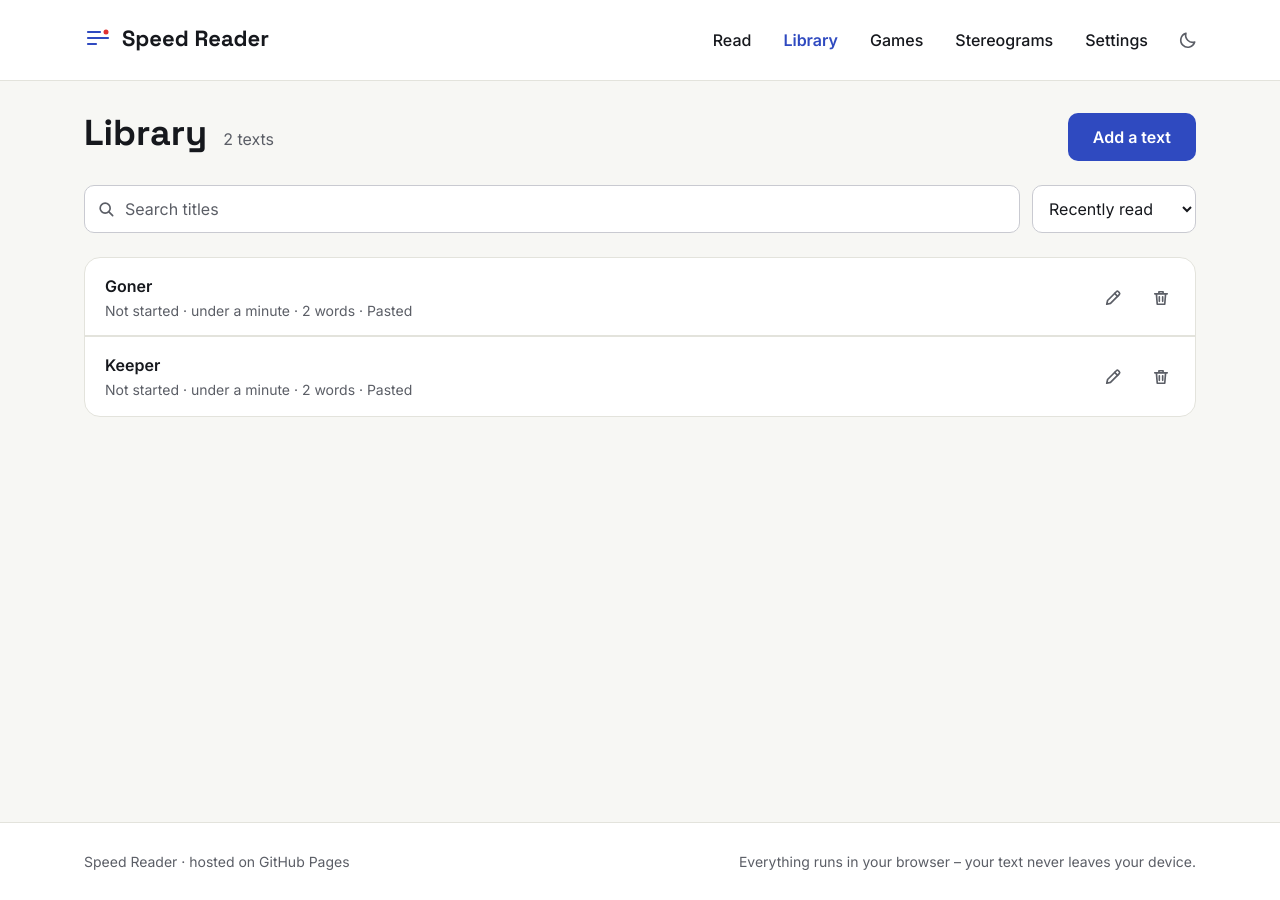
Scenario: library › removes a text, and lets you take it back
Click the button named "Remove “Keeper”".
click(1161, 376)  # box [1139, 354, 1183, 398]
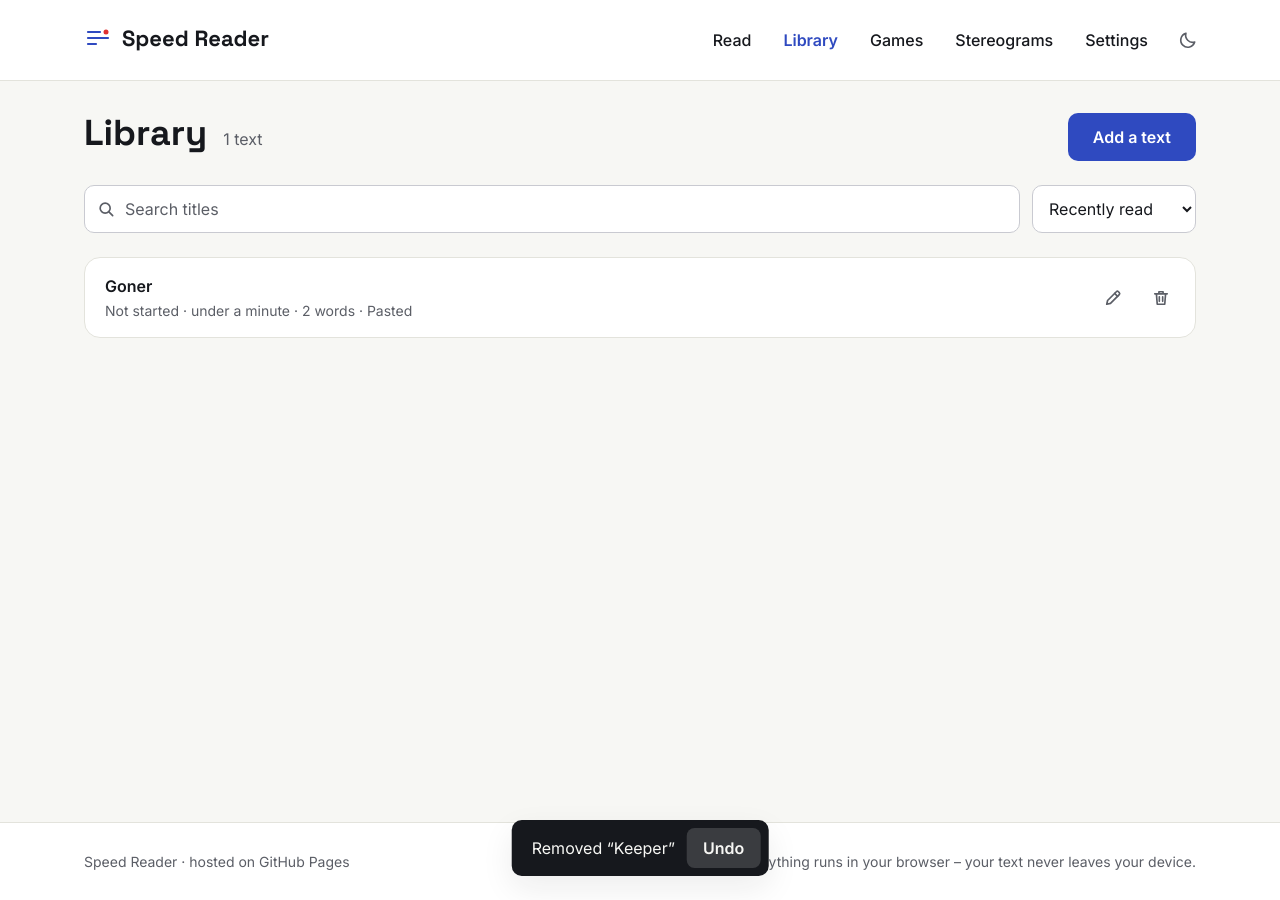
Result: the message shows "Removed “Keeper”" at [512, 820, 768, 876]
Click the button "Undo".
click(724, 848)  # box [687, 828, 760, 868]
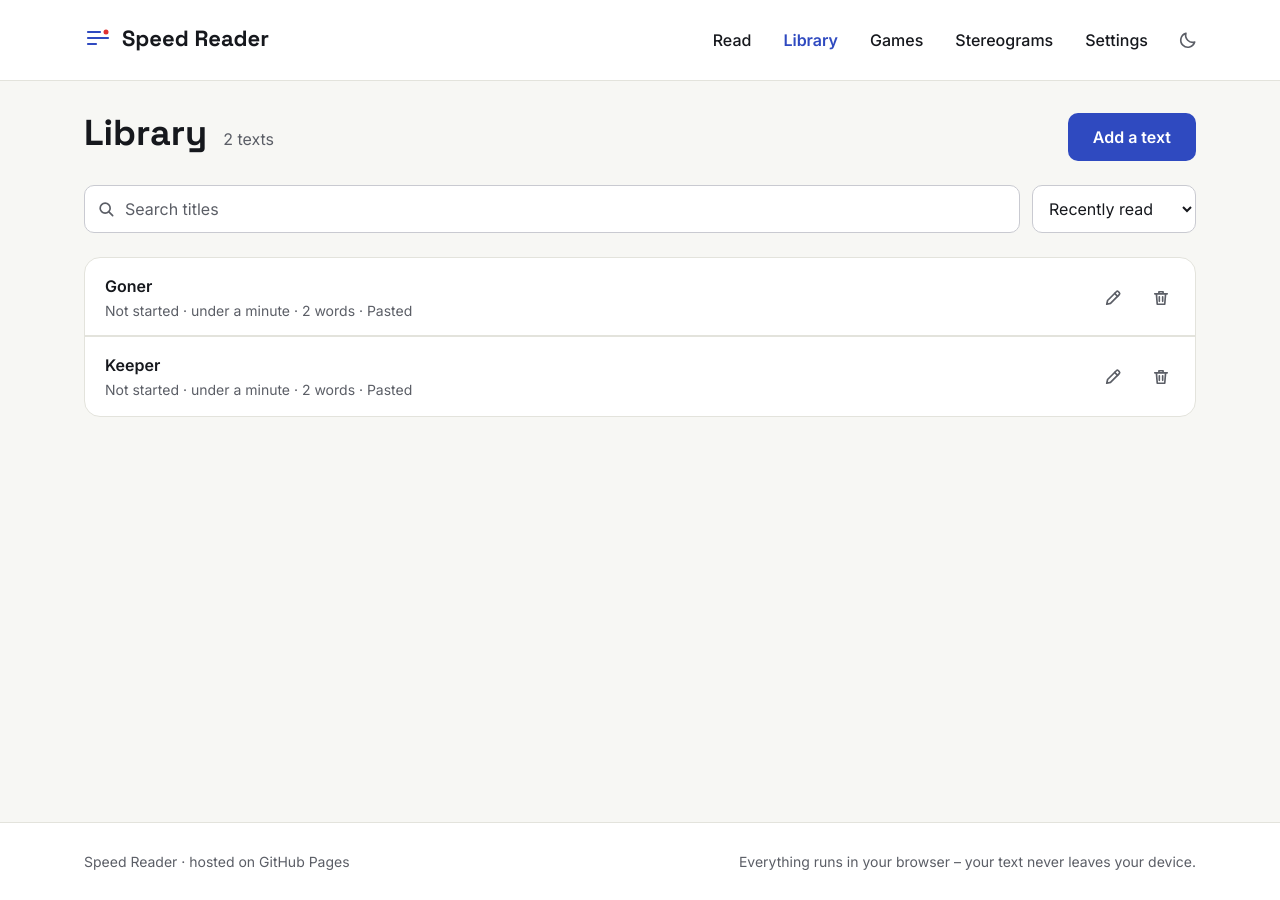
Result: the link "Keeper Not started · under a minute · 2 words · Pasted" is shown at [105, 355, 412, 398]
Click the button named "Remove “Goner”".
click(1161, 298)  # box [1139, 276, 1183, 320]
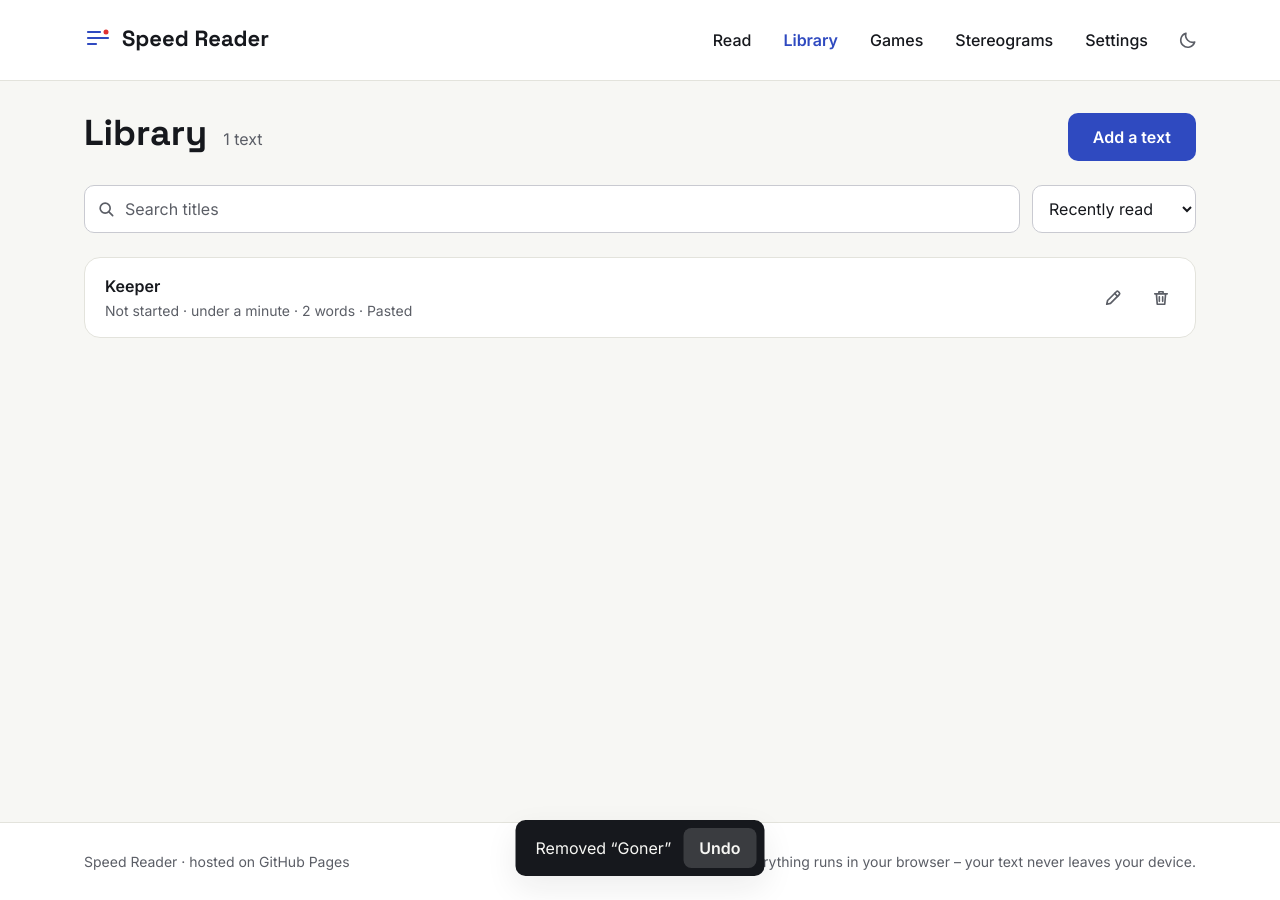
Result: the text "1 text" is shown at [223, 127, 262, 151]
